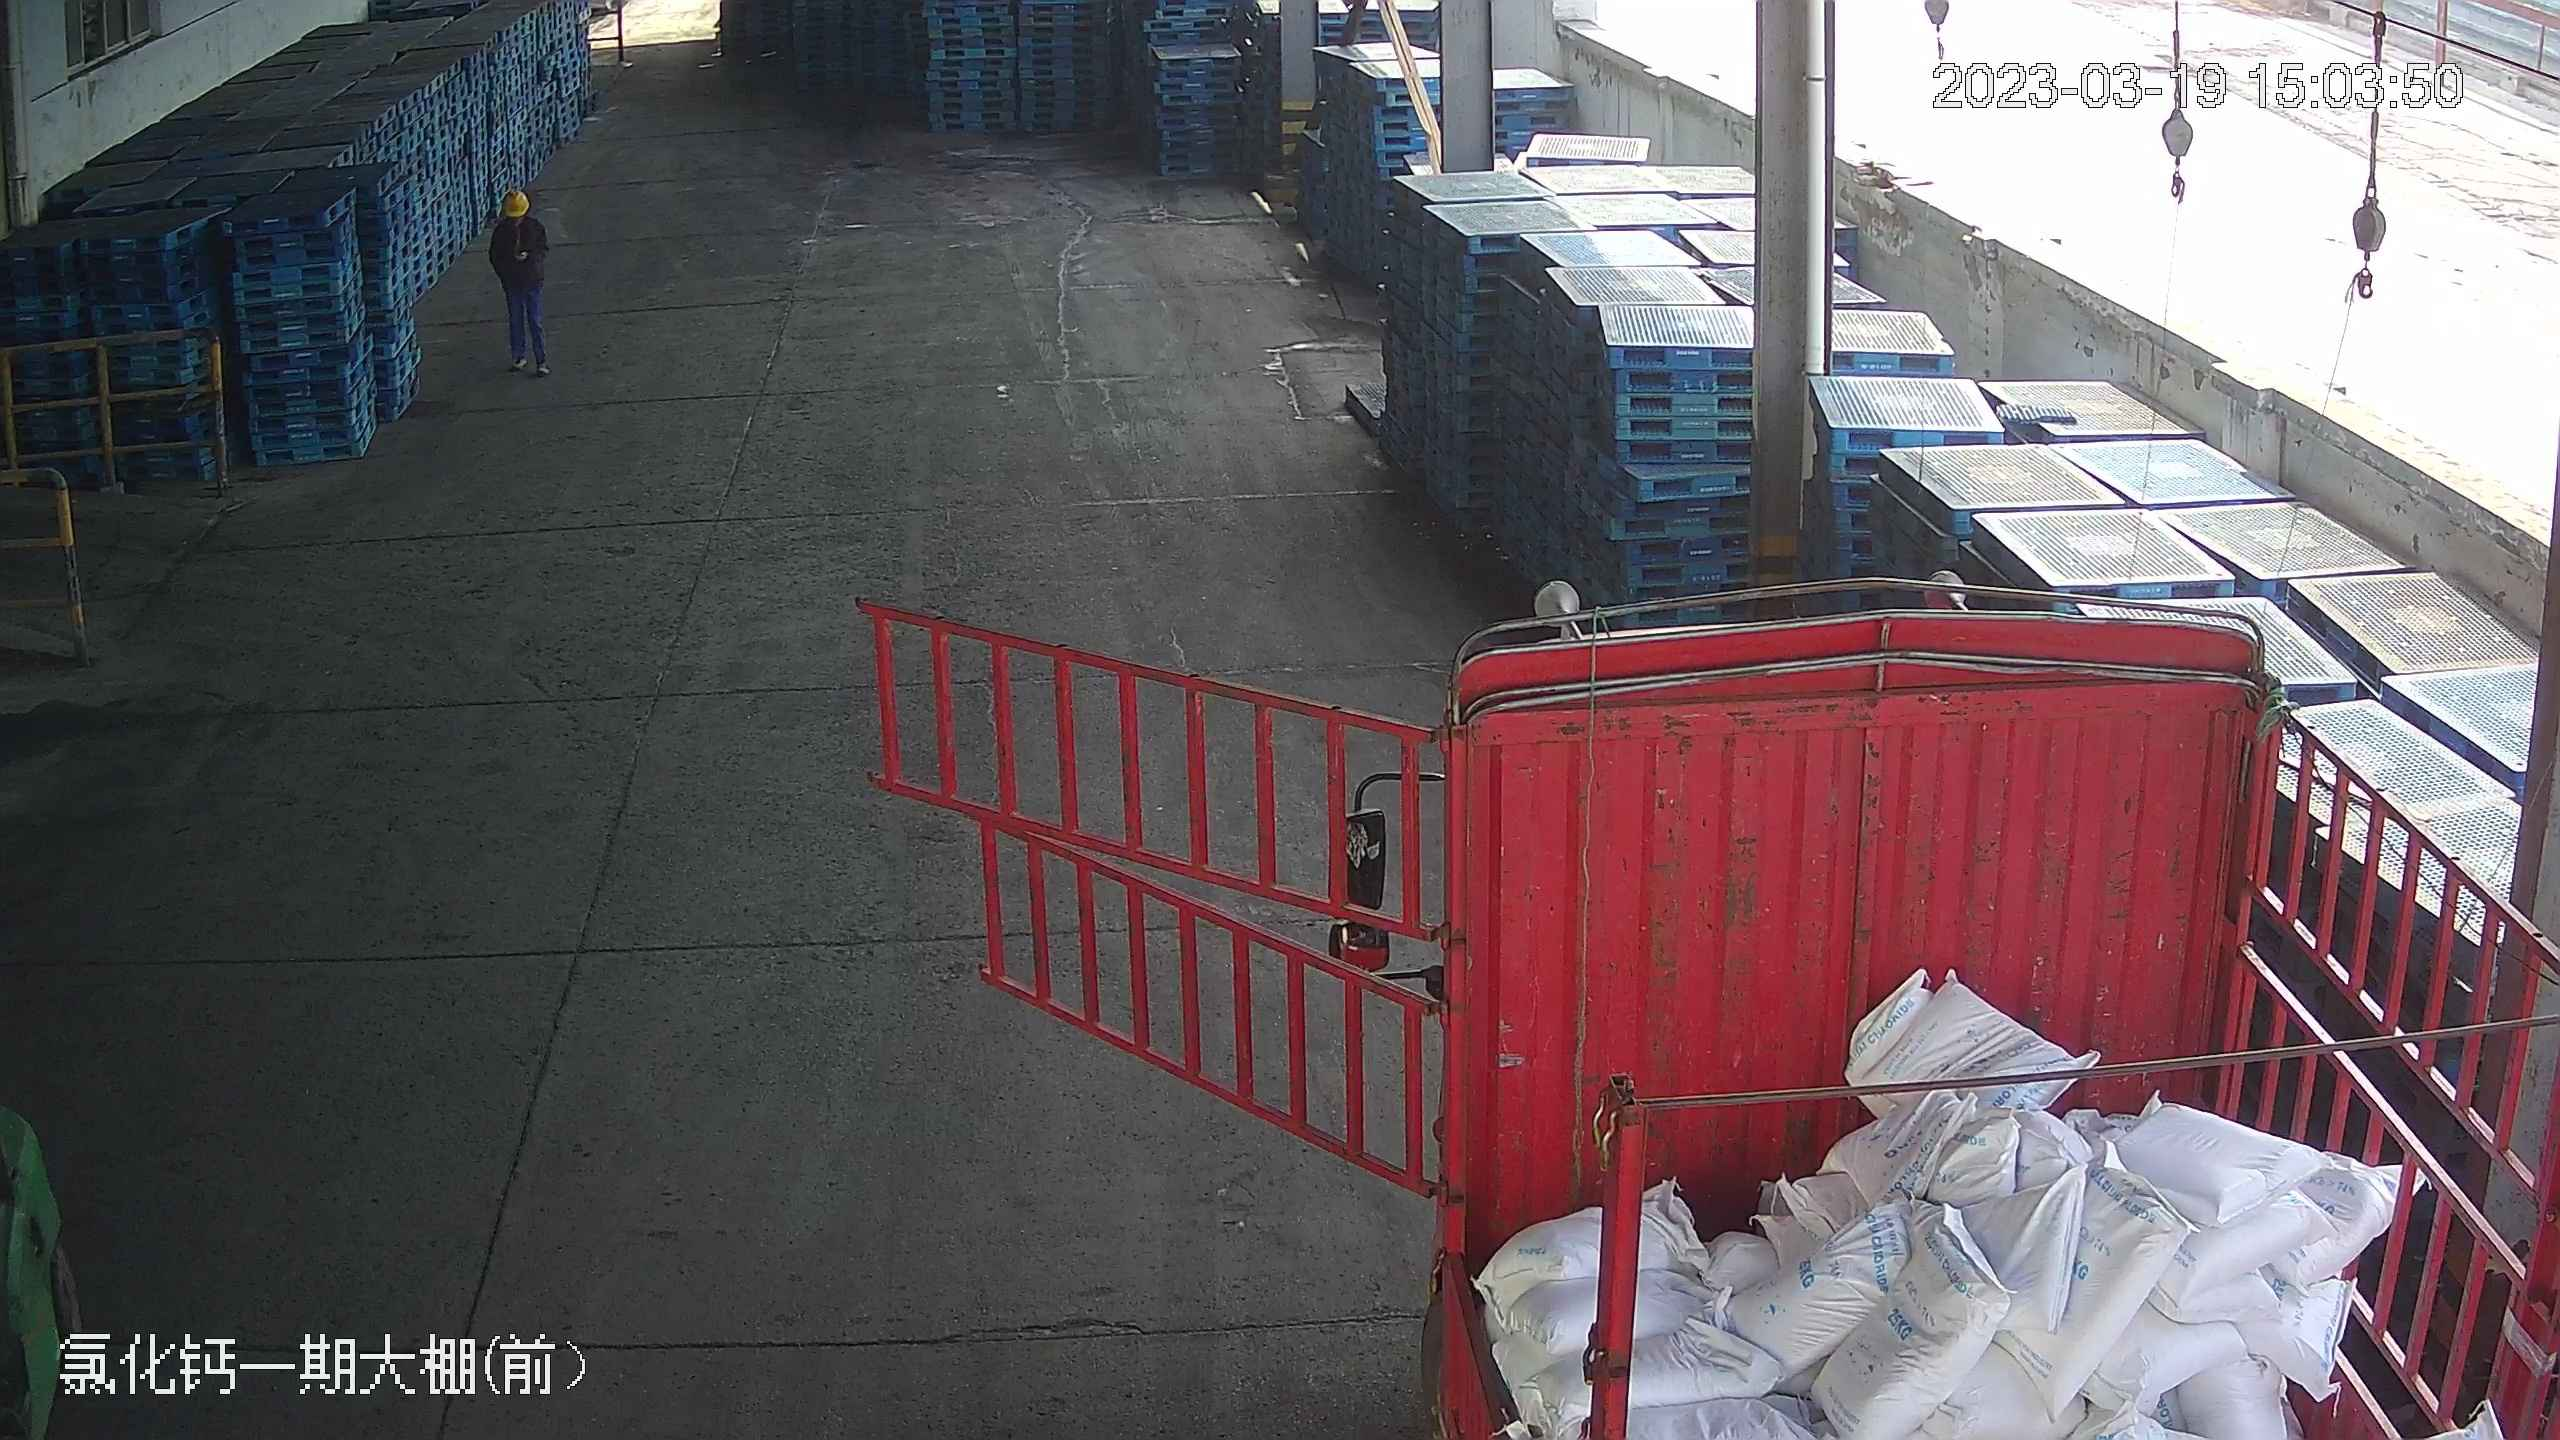head: (491, 188, 543, 244)
helmet: (501, 189, 529, 213)
people: (487, 187, 556, 377)
truck: (1428, 564, 2560, 1440)
